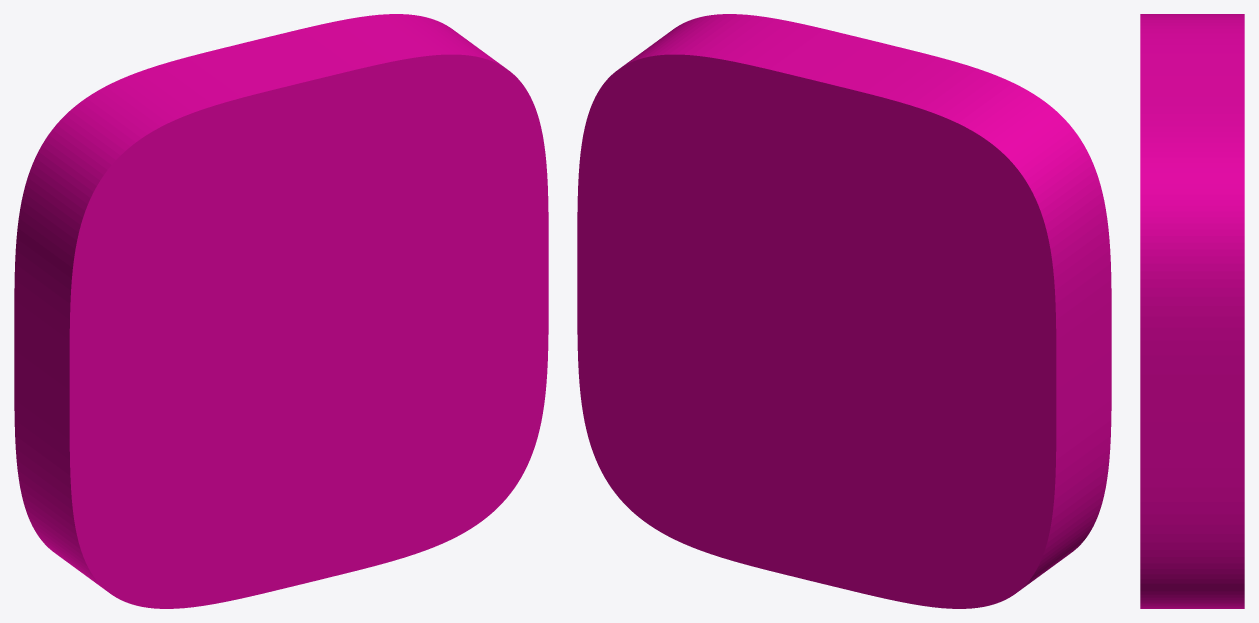
The model's file is cuadrado.glb.
The picture shows the model from 3 angles, left to right: view 1: azimuth 30°, elevation 25°; view 2: azimuth 150°, elevation 25°; view 3: azimuth 270°, elevation 25°; orthographic projection. The views are drawn at different scales.
Parts seen in each view (by area): view 1: cuadrado_bordes_redondeados; view 2: cuadrado_bordes_redondeados; view 3: cuadrado_bordes_redondeados.
Boxes of the visible parts, x1,y1,x2,y2 form: cuadrado_bordes_redondeados: [14, 14, 548, 608]; cuadrado_bordes_redondeados: [577, 14, 1111, 608]; cuadrado_bordes_redondeados: [1140, 14, 1244, 608].
Size of the model in its own units: 1 by 1 by 0.2.
